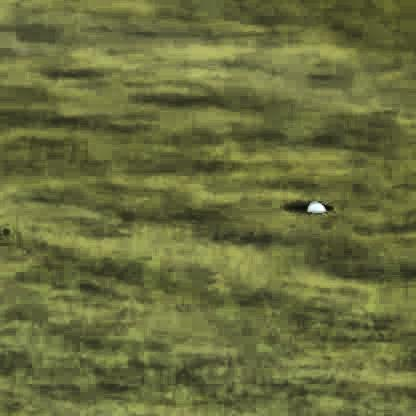golfball: (305, 205, 323, 215)
